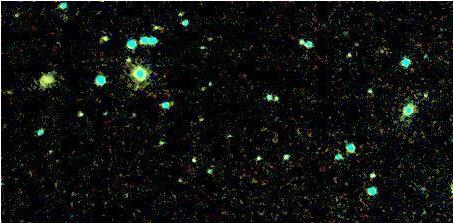star: (0, 78, 25, 108)
